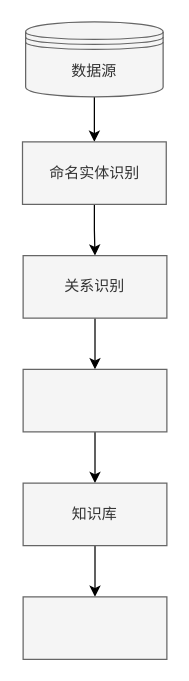
Some shapes in this 189 by 681 pixel diagram are drawn without their labels. Each missing label, with the centre of its shape:
"知识库查询" belongs at point 94,627.
"知识融合" belongs at point 94,400.
